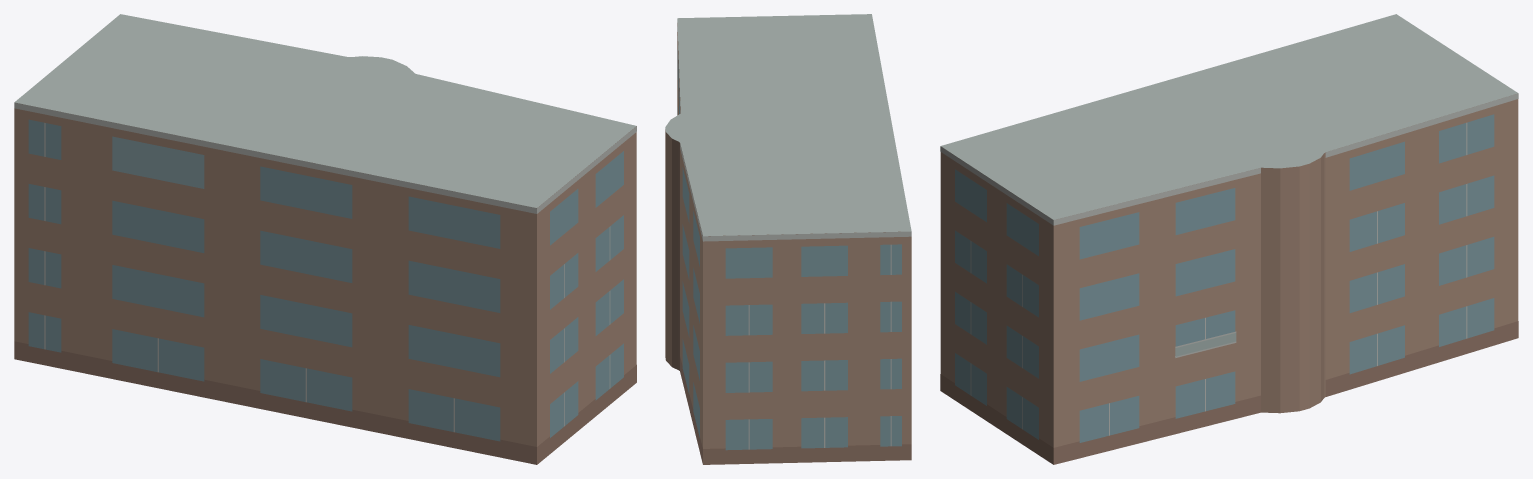
File: survey-upis-32947304.glb
3 renders of one model, left to right at view 1: azimuth 30°, elevation 25°; view 2: azimuth 150°, elevation 25°; view 3: azimuth 270°, elevation 25°, orthographic. The views are drawn at different scales.
Visible parts, largest first — view 1: survey-upis-32947304.tmp; view 2: survey-upis-32947304.tmp; view 3: survey-upis-32947304.tmp.
Part boxes in pixels (x1,y1,x2,y2): survey-upis-32947304.tmp: [14, 14, 636, 464]; survey-upis-32947304.tmp: [665, 14, 911, 464]; survey-upis-32947304.tmp: [940, 14, 1518, 464].
Bounding box in the file's own units: 19.14 × 10.6 × 22.69.
